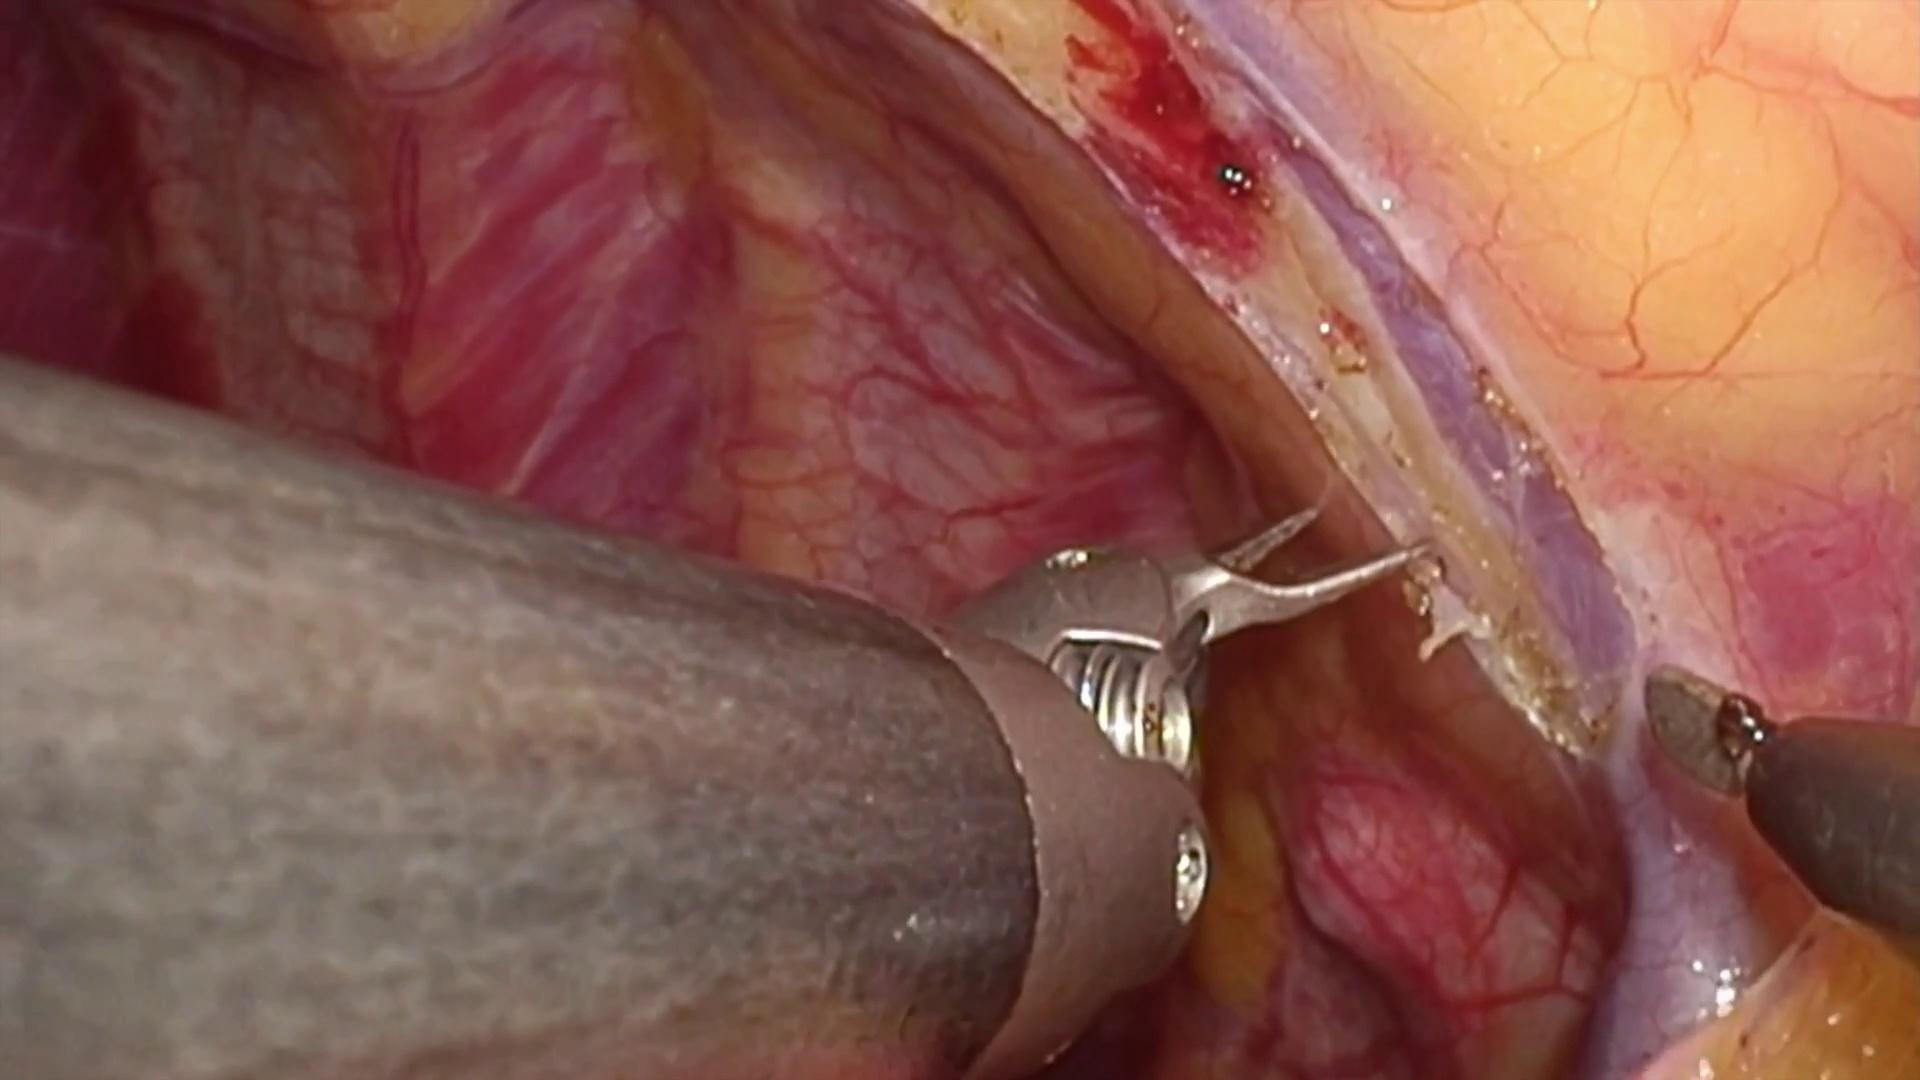Cautery_Spatula: (1638, 666, 1920, 919)
Debakey: (1135, 475, 1425, 682)
